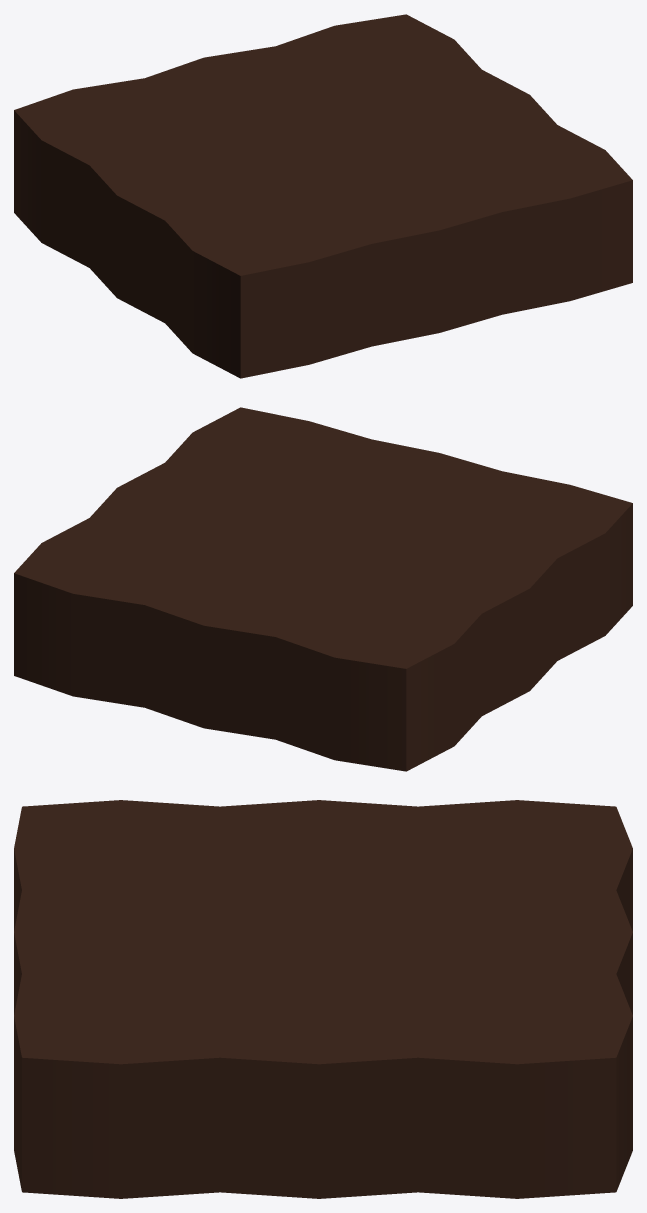
Rendered from jaggeredTile-12b_col.fbx.
3 views of the same model, one above another, from view 1: azimuth 30°, elevation 25°; view 2: azimuth 150°, elevation 25°; view 3: azimuth 270°, elevation 25° (orthographic). The views are drawn at different scales.
Visible parts, largest first — view 1: jaggeredTile-12b.col; view 2: jaggeredTile-12b.col; view 3: jaggeredTile-12b.col.
Boxes of the visible parts, box(x1,y1,x2,y2) form: jaggeredTile-12b.col: box(14, 14, 632, 378); jaggeredTile-12b.col: box(14, 407, 632, 771); jaggeredTile-12b.col: box(14, 800, 632, 1198).
Size of the model in its own units: 2.1 by 0.5 by 2.08.
Materials: 1 (1 with a texture image).
